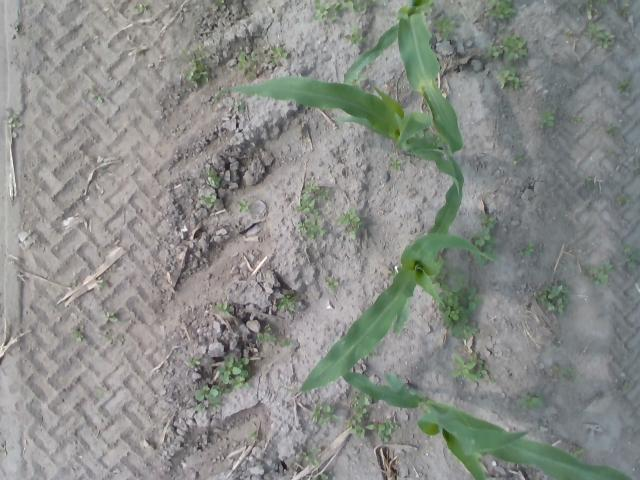Maize: (282, 138, 492, 394), (342, 370, 634, 480), (214, 75, 462, 195), (344, 0, 464, 156)
Weeds: (439, 265, 484, 341), (482, 32, 530, 69), (182, 40, 214, 90), (313, 0, 382, 21), (294, 180, 333, 215), (578, 258, 618, 289), (217, 354, 250, 390), (534, 282, 570, 315), (450, 352, 488, 382), (468, 214, 498, 252), (346, 391, 369, 440), (366, 418, 402, 447), (194, 386, 225, 416), (582, 21, 614, 50), (337, 206, 360, 242), (310, 400, 338, 429), (486, 0, 517, 24), (494, 66, 522, 92), (237, 50, 260, 79), (434, 14, 458, 40), (298, 446, 326, 468), (298, 218, 328, 238), (4, 108, 22, 140), (265, 45, 290, 68), (520, 390, 544, 412), (204, 162, 223, 189), (278, 293, 298, 315), (538, 107, 558, 128), (343, 28, 369, 44), (516, 242, 536, 262), (102, 332, 126, 348), (212, 299, 232, 318), (616, 73, 634, 94), (100, 310, 120, 328), (623, 250, 640, 270), (260, 326, 276, 347), (88, 88, 104, 106), (184, 356, 202, 372), (70, 326, 84, 346), (562, 363, 576, 383), (387, 156, 403, 173), (134, 1, 150, 17), (199, 195, 216, 210), (324, 275, 339, 292), (616, 191, 632, 206), (620, 380, 636, 394), (236, 198, 251, 212), (618, 2, 632, 17), (607, 122, 620, 138), (236, 98, 248, 114), (586, 0, 609, 8), (246, 431, 260, 444), (312, 471, 332, 480), (96, 280, 112, 291), (570, 446, 584, 458), (94, 386, 106, 399), (512, 154, 524, 166), (280, 337, 292, 348), (603, 147, 615, 158), (585, 178, 594, 191), (552, 363, 560, 377), (355, 74, 366, 84), (572, 115, 584, 124), (624, 243, 633, 252), (212, 4, 221, 13), (565, 28, 574, 36), (635, 158, 640, 170), (220, 0, 228, 4)
